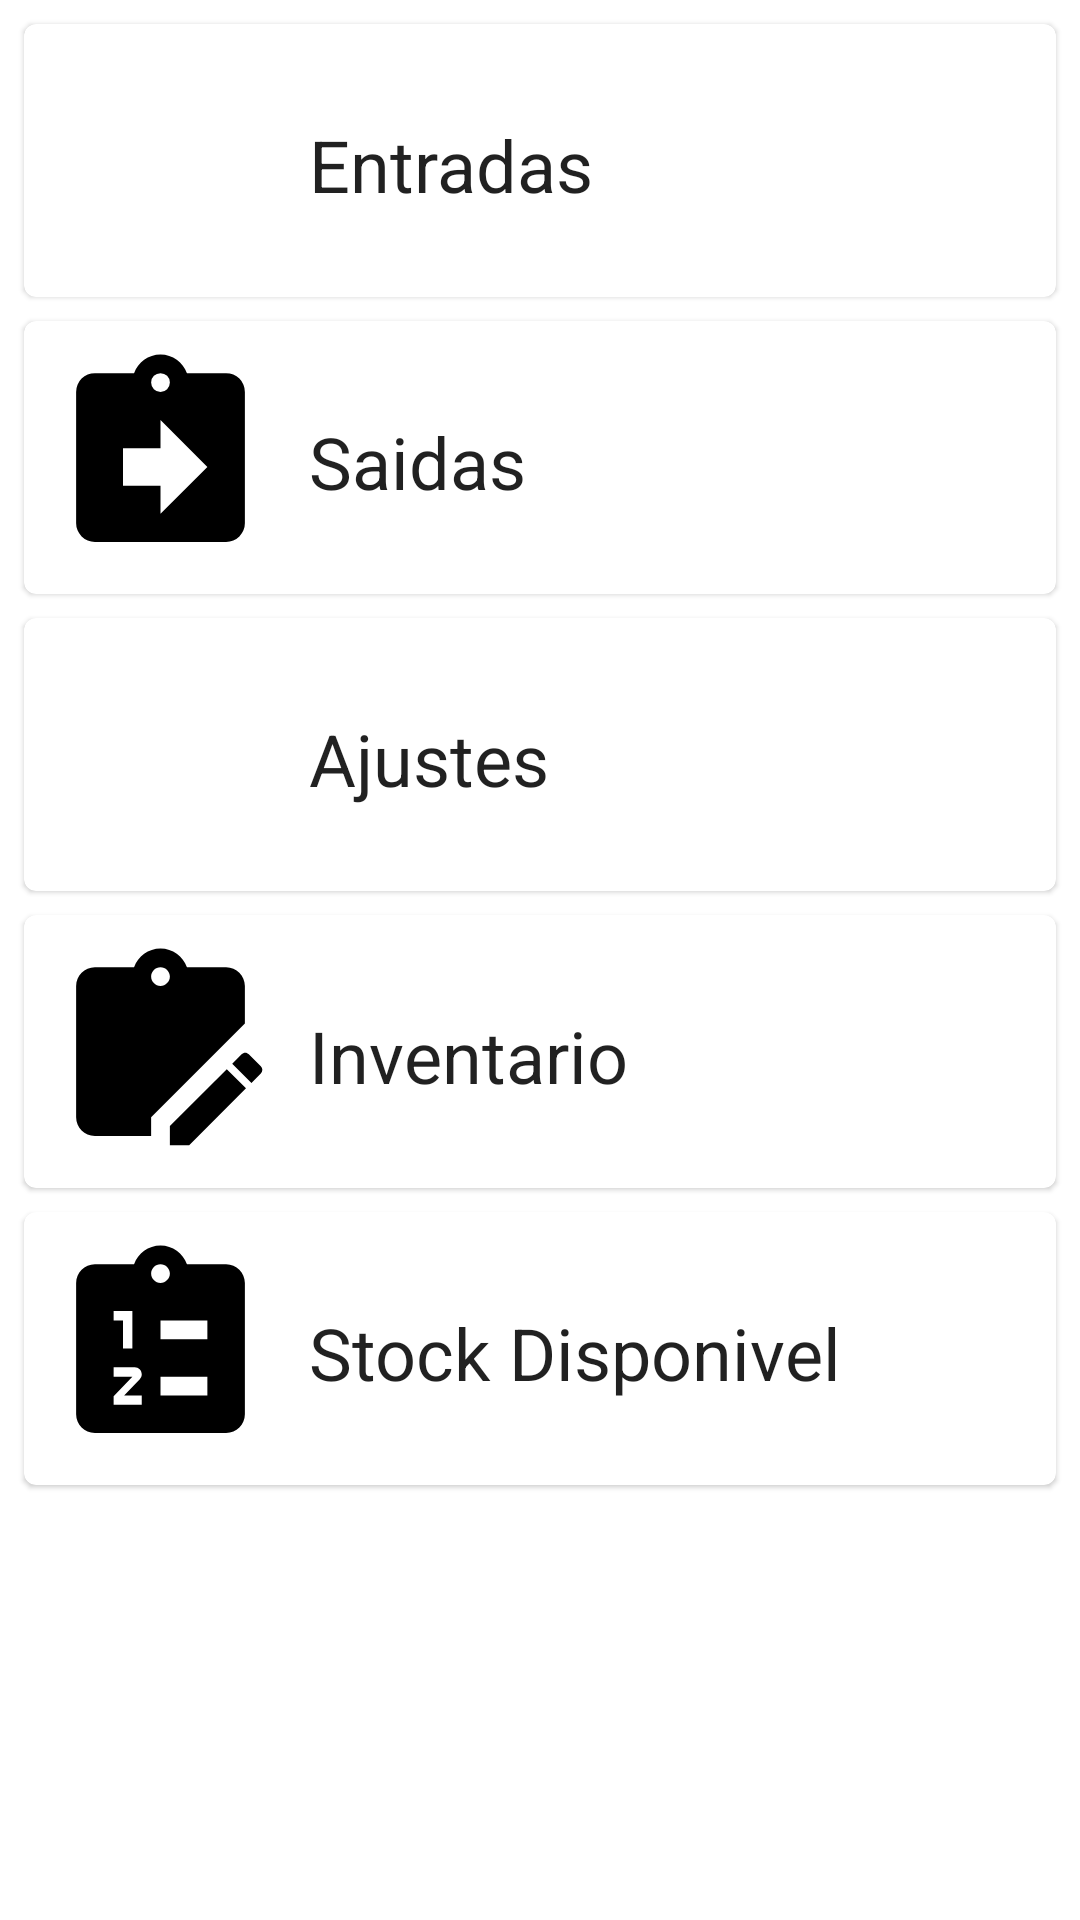

Named icons in this screenshot (1080w x 1920h) and their centers, (x=x, y=y):
clipboard arrow right: (x=160, y=448)
clipboard edit: (x=169, y=1047)
clipboard list: (x=160, y=1339)
